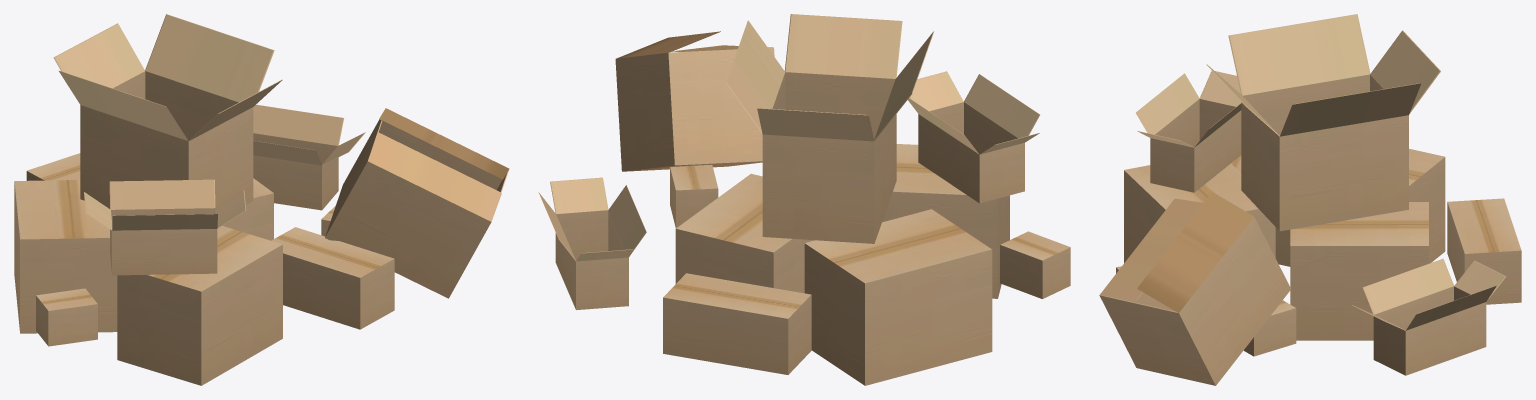
File: psx_boxes.glb
3 renders of one model, left to right at view 1: azimuth 30°, elevation 25°; view 2: azimuth 150°, elevation 25°; view 3: azimuth 270°, elevation 25°, orthographic. The views are drawn at different scales.
Parts seen in each view (by area): view 1: Box 2.001, Box 4, Box 1.002, Box 1.001, Box 5.001, Box 6, Box 5, Box 3.001, Box 1, Box 6.001; view 2: Box 2.001, Box 1.001, Box 4, Box 6.001, Box 5.001, Box 5, Box 1, Box 1.002, Box 3.001, Box 3; view 3: Box 2.001, Box 4, Box 1, Box 5, Box 5.001, Box 6.001, Box 1.002, Box 1.001, Box 3.
Part boxes in pixels (x1=…): Box 2.001: x1=53, y1=14, x2=282, y2=208; Box 4: x1=325, y1=108, x2=509, y2=298; Box 1.002: x1=117, y1=226, x2=282, y2=385; Box 1.001: x1=14, y1=180, x2=117, y2=333; Box 5.001: x1=84, y1=179, x2=246, y2=275; Box 6: x1=271, y1=227, x2=394, y2=329; Box 5: x1=253, y1=104, x2=365, y2=210; Box 3.001: x1=36, y1=288, x2=97, y2=346; Box 1: x1=222, y1=178, x2=273, y2=240; Box 6.001: x1=26, y1=153, x2=80, y2=180; Box 2.001: x1=726, y1=14, x2=934, y2=243; Box 1.001: x1=804, y1=209, x2=992, y2=385; Box 4: x1=615, y1=31, x2=774, y2=171; Box 6.001: x1=663, y1=273, x2=811, y2=374; Box 5.001: x1=908, y1=71, x2=1039, y2=203; Box 5: x1=538, y1=177, x2=646, y2=310; Box 1: x1=675, y1=173, x2=814, y2=293; Box 1.002: x1=882, y1=144, x2=1009, y2=298; Box 3.001: x1=1000, y1=231, x2=1070, y2=298; Box 3: x1=670, y1=164, x2=718, y2=228; Box 2.001: x1=1206, y1=14, x2=1440, y2=231; Box 4: x1=1099, y1=192, x2=1290, y2=385; Box 1: x1=1290, y1=202, x2=1428, y2=340; Box 5: x1=1352, y1=258, x2=1506, y2=375; Box 5.001: x1=1136, y1=71, x2=1241, y2=192; Box 6.001: x1=1447, y1=198, x2=1521, y2=304; Box 1.002: x1=1124, y1=163, x2=1275, y2=262; Box 1.001: x1=1275, y1=149, x2=1445, y2=266; Box 3: x1=1244, y1=300, x2=1296, y2=356.
Bounding box in the file's own units: 9.77 × 5.02 × 8.09.
Materials: 11 (11 with a texture image).
